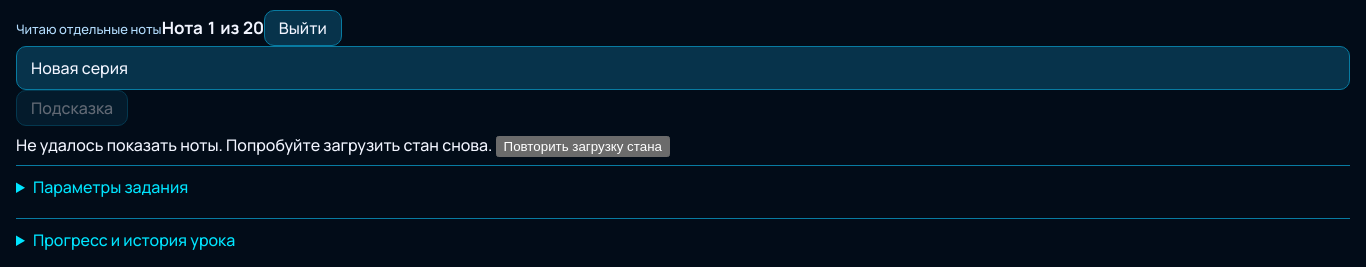
Test: reading course UI › offers a retry for staff rendering failures without granting a hint
expect the message shows "Не удалось показать ноты.": met, box [16,134,492,156]
expect the button "Подсказка" is disabled: met, box [16,90,128,126]
Click the button "Повторить загрузку стана".
click(583, 146)  # box [496,136,670,157]
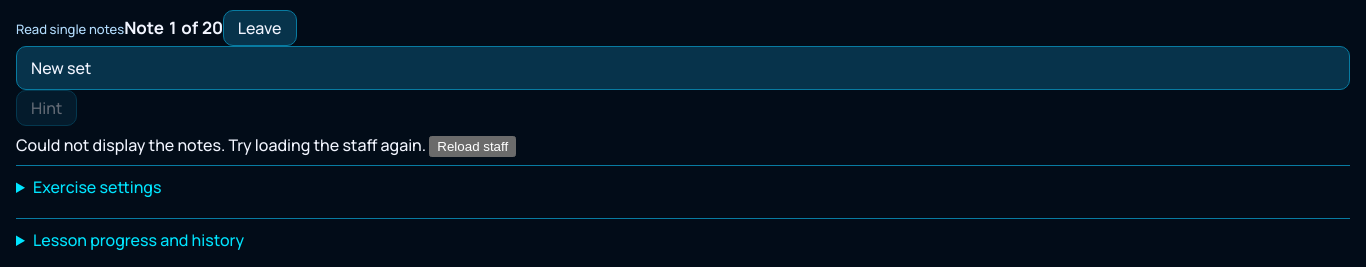
expect the button "Reload staff" is enabled: met, box [429,136,516,157]
expect the message "Could not display the notes. Try loading the staff again. Reload staff" is shown: met, box [16,134,516,157]
